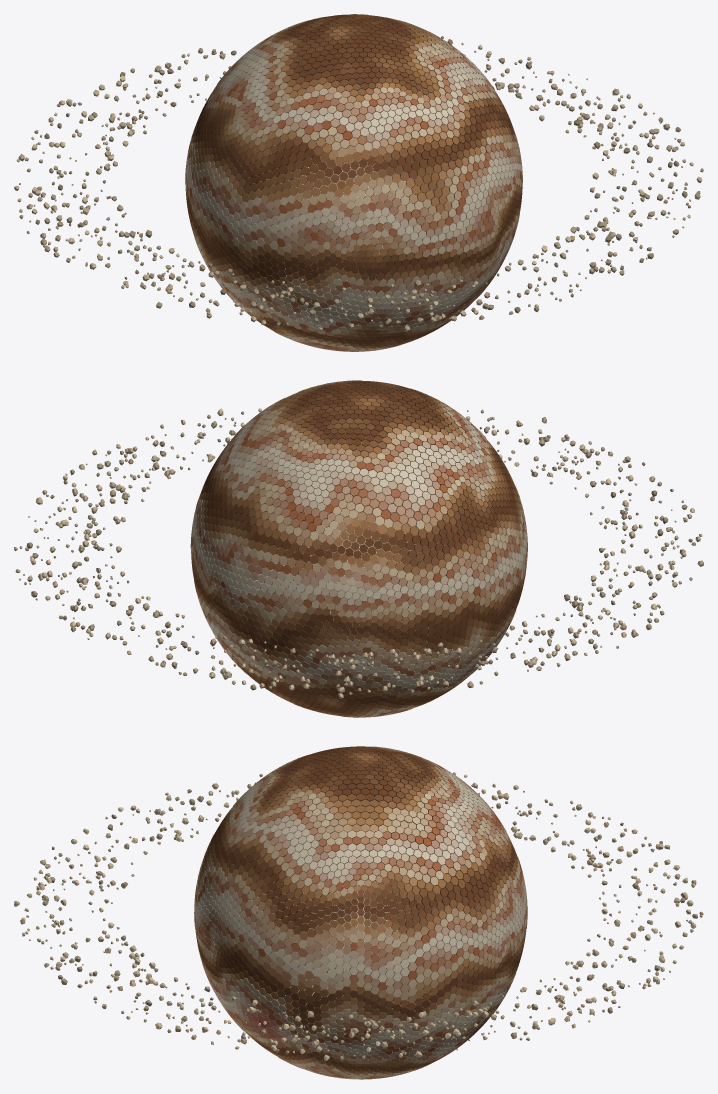
File: gas_1.glb
3 renders of one model, top to bottom at view 1: azimuth 30°, elevation 25°; view 2: azimuth 150°, elevation 25°; view 3: azimuth 270°, elevation 25°, orthographic.
Parts seen in each view (by area): view 1: gas_1, gas_1_rings; view 2: gas_1, gas_1_rings; view 3: gas_1, gas_1_rings.
Boxes of the visible parts, left/top/right/bottom form: gas_1: left=185, top=14, right=522, bottom=351; gas_1_rings: left=14, top=36, right=703, bottom=331; gas_1: left=190, top=380, right=527, bottom=717; gas_1_rings: left=14, top=408, right=703, bottom=698; gas_1: left=194, top=746, right=527, bottom=1079; gas_1_rings: left=14, top=766, right=703, bottom=1061.
Size of the model in its own units: 4.12 by 2 by 4.15.
